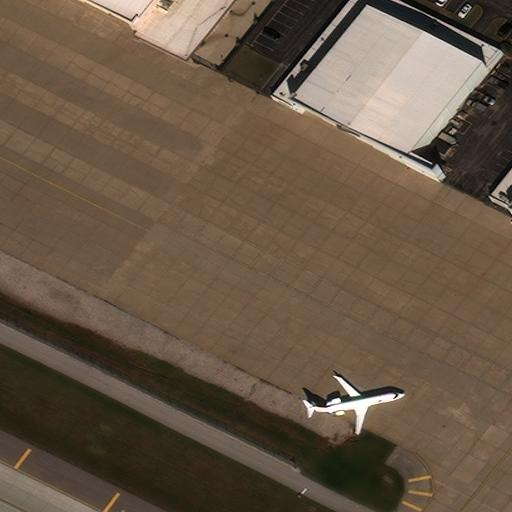Medium Civil Transport: (307, 374, 403, 433)
